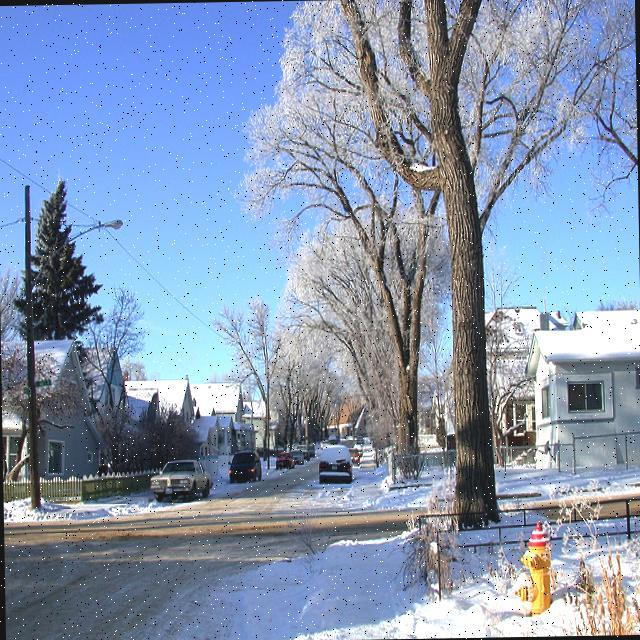fire_hydrant: (509, 518, 554, 616)
